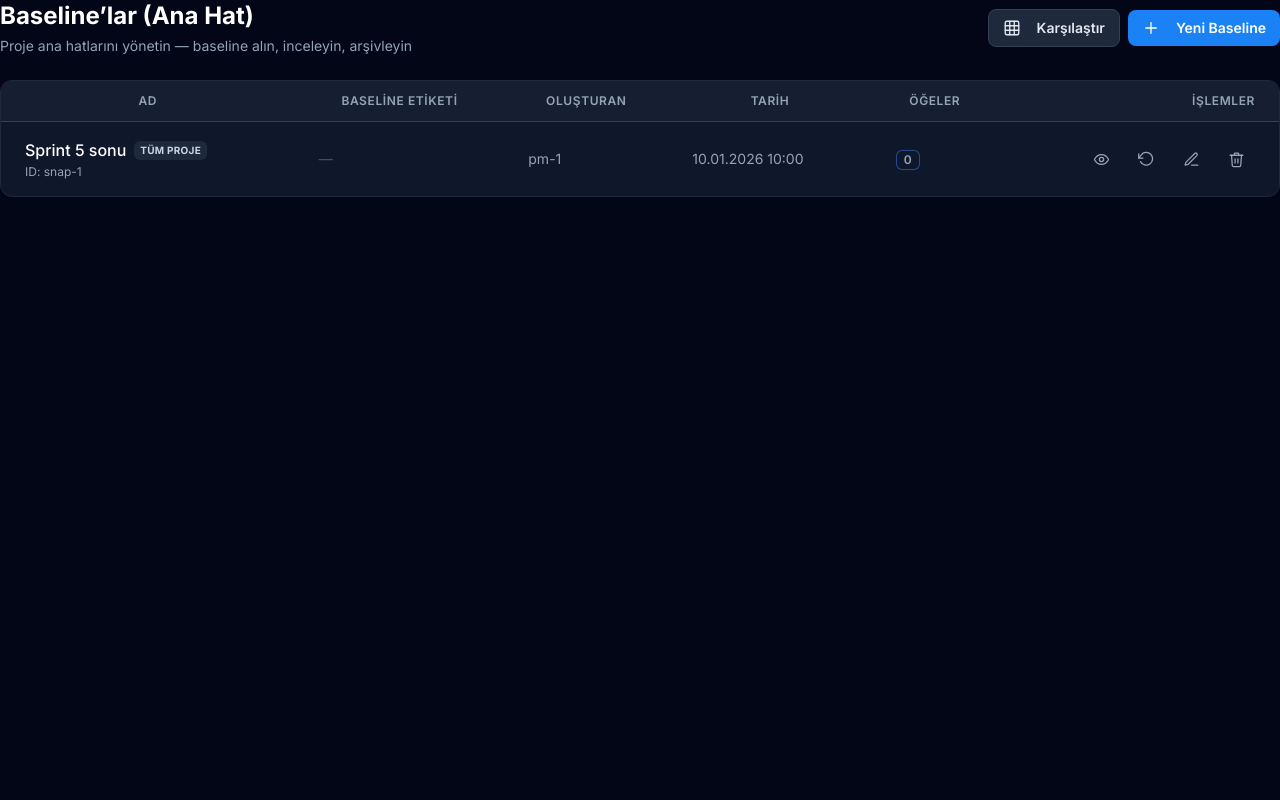
Scenario: SnapshotDetailModal — modular öznitelikler + menü yapısı › "Hiçbir menü sayfasına ait değil" bölümü, hiçbir sayfa filtresine uymayan kayıtları gösterir
The image size is (1280, 800).
Click the button titled "Görüntüle".
click(1102, 159)  # box [1083,144,1120,174]
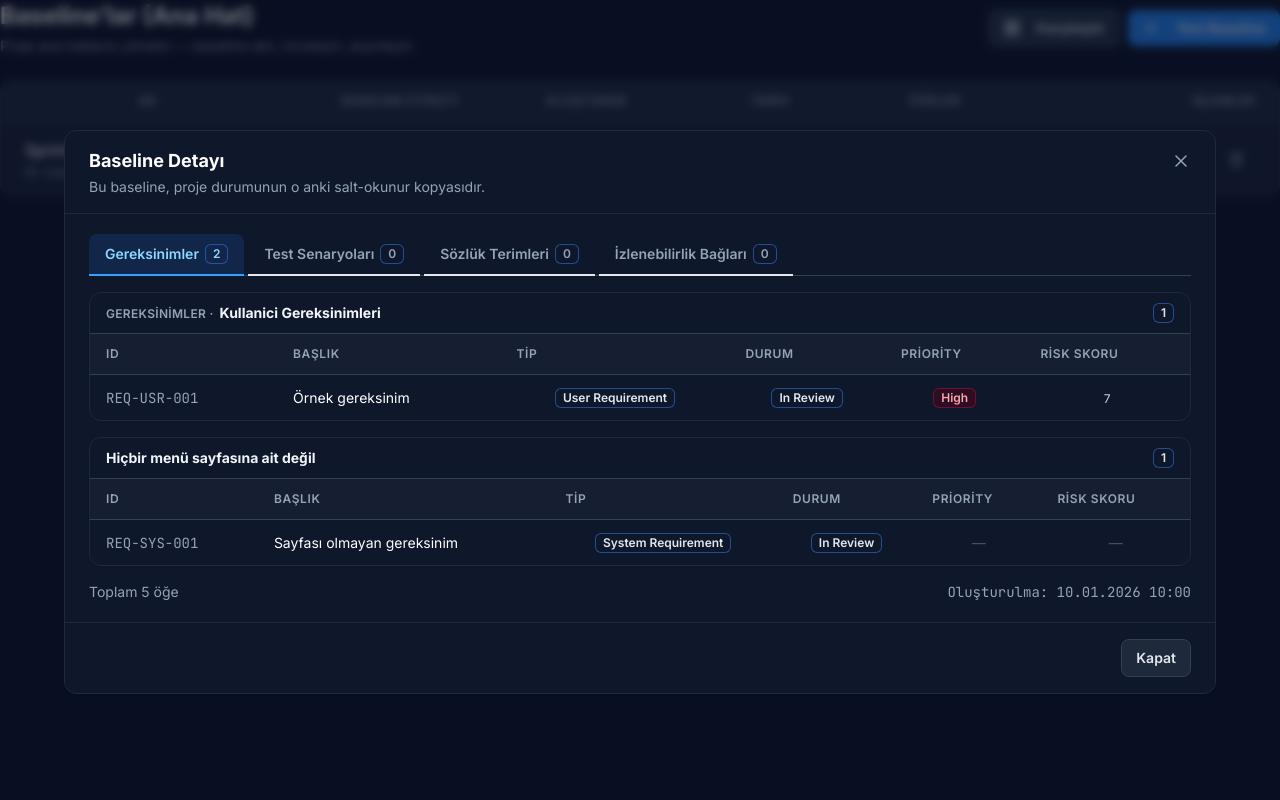
Check: the text "REQ-USR-001" is shown, box [90,374,277,420]
Check: the text "Hiçbir menü sayfasına ait değil" is shown, box [106,448,316,468]
Check: the text "REQ-SYS-001" is shown, box [90,520,258,565]
